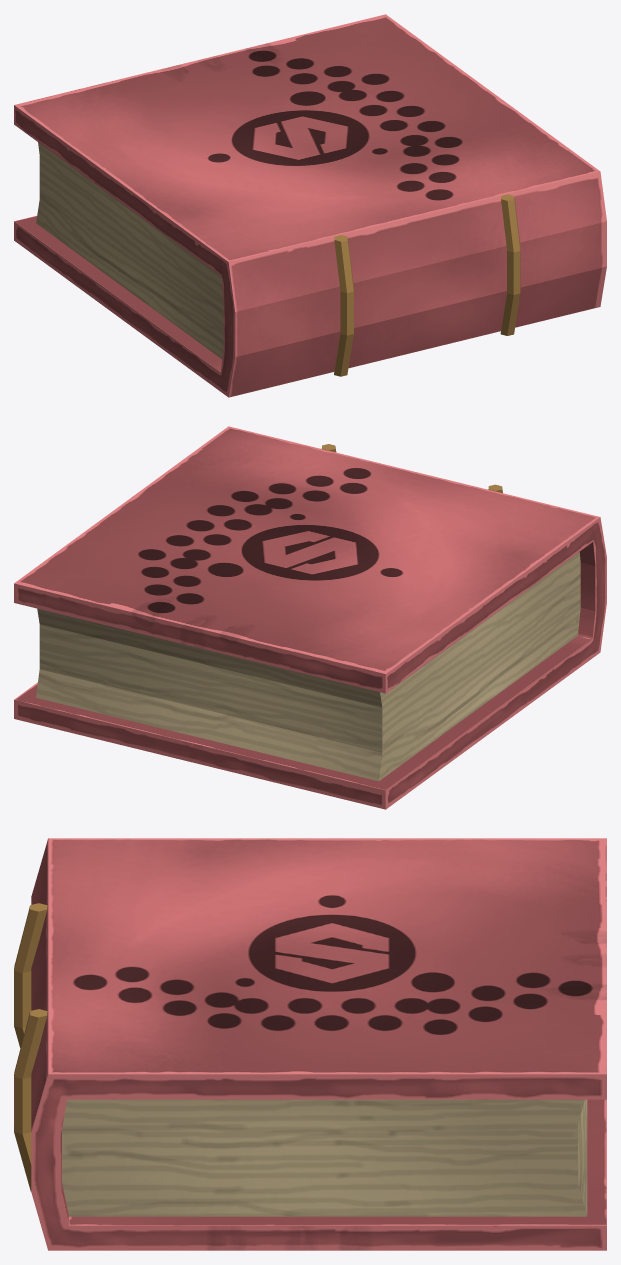
Rendered from phonebook_0_v000.glb.
3 renders of one model, top to bottom at view 1: azimuth 30°, elevation 25°; view 2: azimuth 150°, elevation 25°; view 3: azimuth 270°, elevation 25°, orthographic. The views are drawn at different scales.
Parts seen in each view (by area): view 1: Cylinder.001_Hig_0; view 2: Cylinder.001_Hig_0; view 3: Cylinder.001_Hig_0.
Boxes of the visible parts, bbox=[...] form: Cylinder.001_Hig_0: bbox=[14, 14, 606, 397]; Cylinder.001_Hig_0: bbox=[14, 426, 606, 809]; Cylinder.001_Hig_0: bbox=[14, 838, 606, 1250].
Size of the model in its own units: 24 by 8.36 by 25.47.
Materials: 1 (1 with a texture image).
